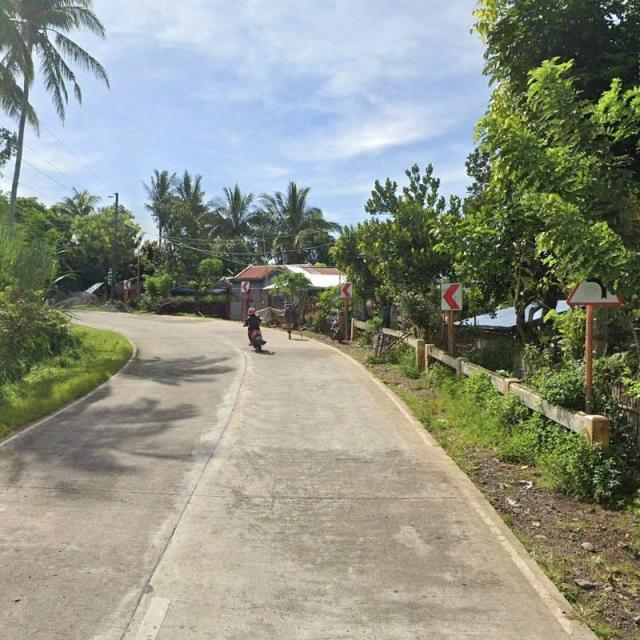warn_left_curve: (566, 246, 623, 306)
